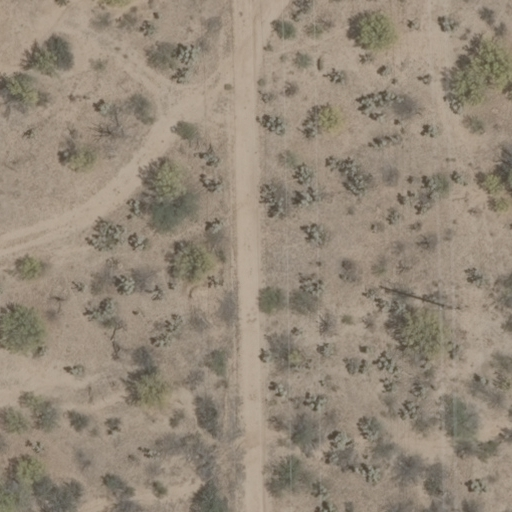DT: (432, 295, 465, 316)
